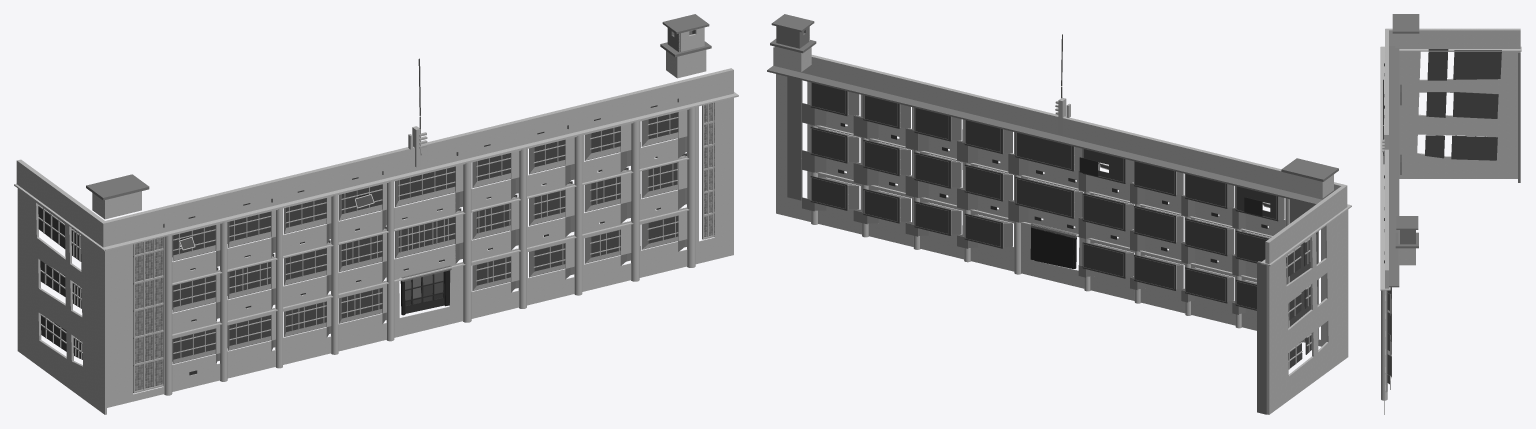
File: huangpu-ruijin-207-historic-roof-ornament-raw.glb
The picture shows the model from 3 angles, left to right: view 1: azimuth 30°, elevation 25°; view 2: azimuth 150°, elevation 25°; view 3: azimuth 270°, elevation 25°; orthographic projection. The views are drawn at different scales.
Parts seen in each view (by area): view 1: 瑞金二路207号公董局医学化验所历史立面; view 2: 瑞金二路207号公董局医学化验所历史立面; view 3: 瑞金二路207号公董局医学化验所历史立面.
Part boxes in pixels (x1,y1,x2,y2): 瑞金二路207号公董局医学化验所历史立面: [14, 14, 738, 414]; 瑞金二路207号公董局医学化验所历史立面: [767, 14, 1351, 414]; 瑞金二路207号公董局医学化验所历史立面: [1380, 14, 1521, 414].
Size of the model in its own units: 44.97 by 18.88 by 11.04.
26 materials, 1 textured.
